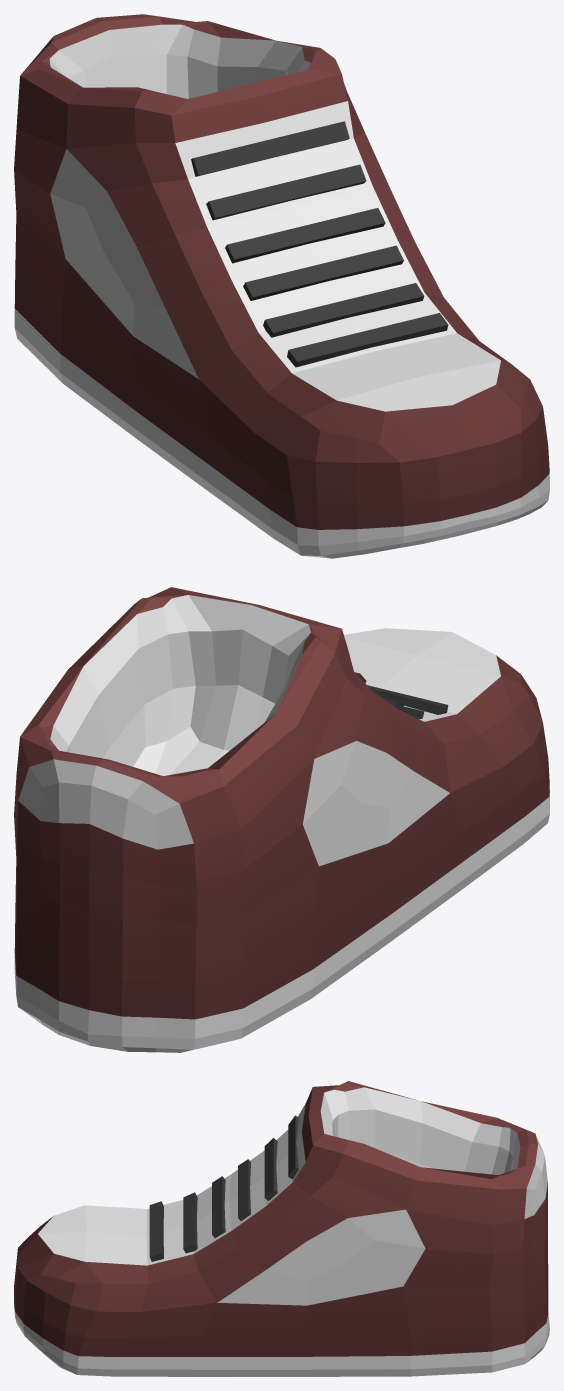
The model's file is Clothes10_C3.fbx.
3 renders of one model, top to bottom at view 1: azimuth 30°, elevation 25°; view 2: azimuth 150°, elevation 25°; view 3: azimuth 270°, elevation 25°, orthographic. The views are drawn at different scales.
Parts seen in each view (by area): view 1: Clothes10_C3; view 2: Clothes10_C3; view 3: Clothes10_C3.
Boxes of the visible parts, x1,y1,x2,y2 form: Clothes10_C3: (14, 14, 549, 558); Clothes10_C3: (14, 587, 549, 1052); Clothes10_C3: (14, 1081, 549, 1376).
Size of the model in its own units: 7.7 by 9.41 by 19.94.
